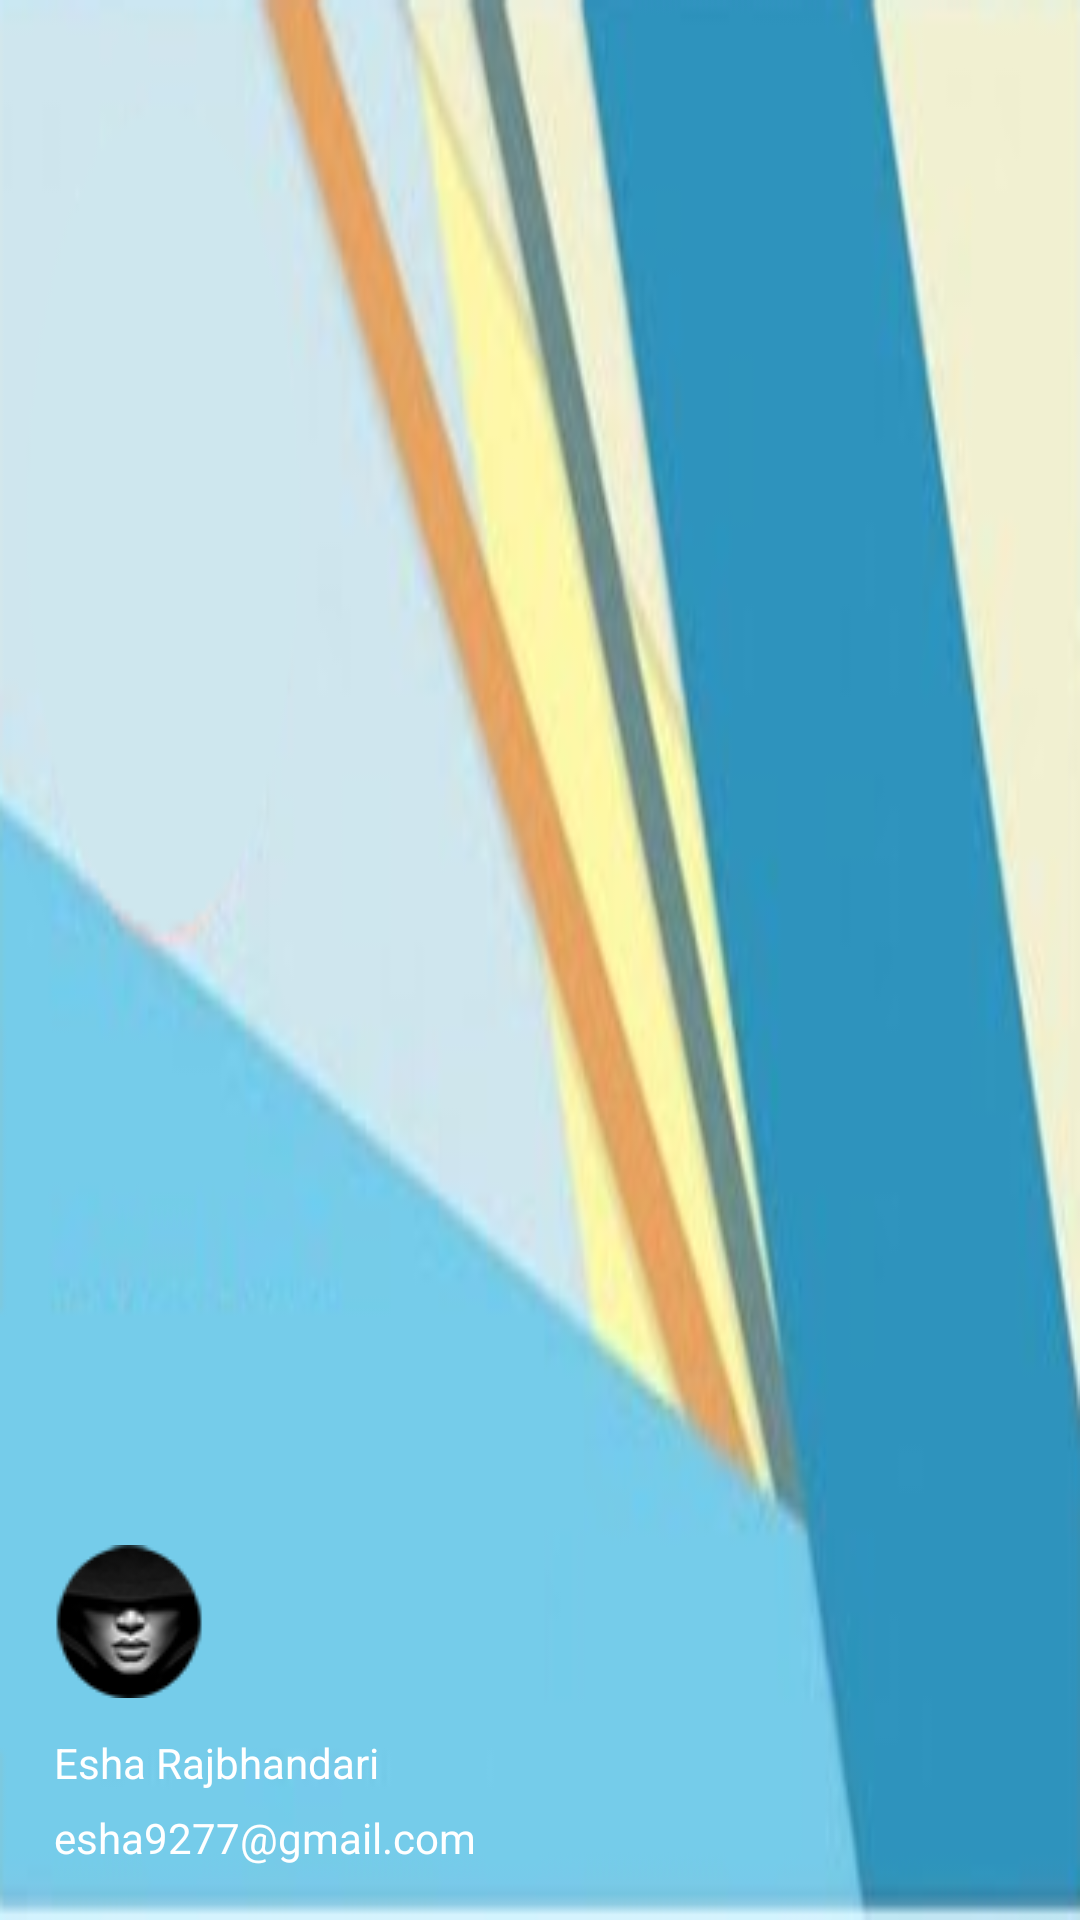

Icon click points for this 1080px×1920px phone screenshot, format (x,y):
profile: (129,1621)
